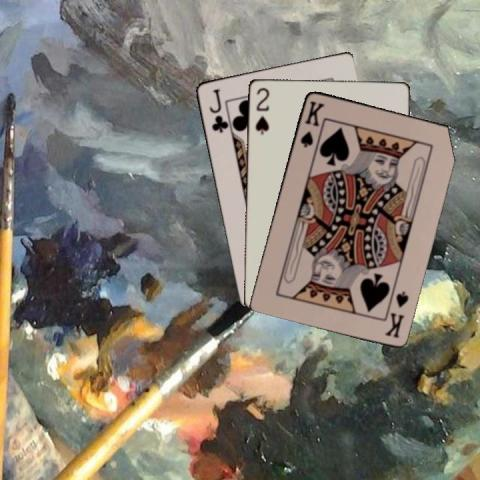2s: (252, 85, 270, 136)
Jc: (206, 85, 227, 134)
Ks: (297, 97, 325, 149), (382, 288, 410, 339)
